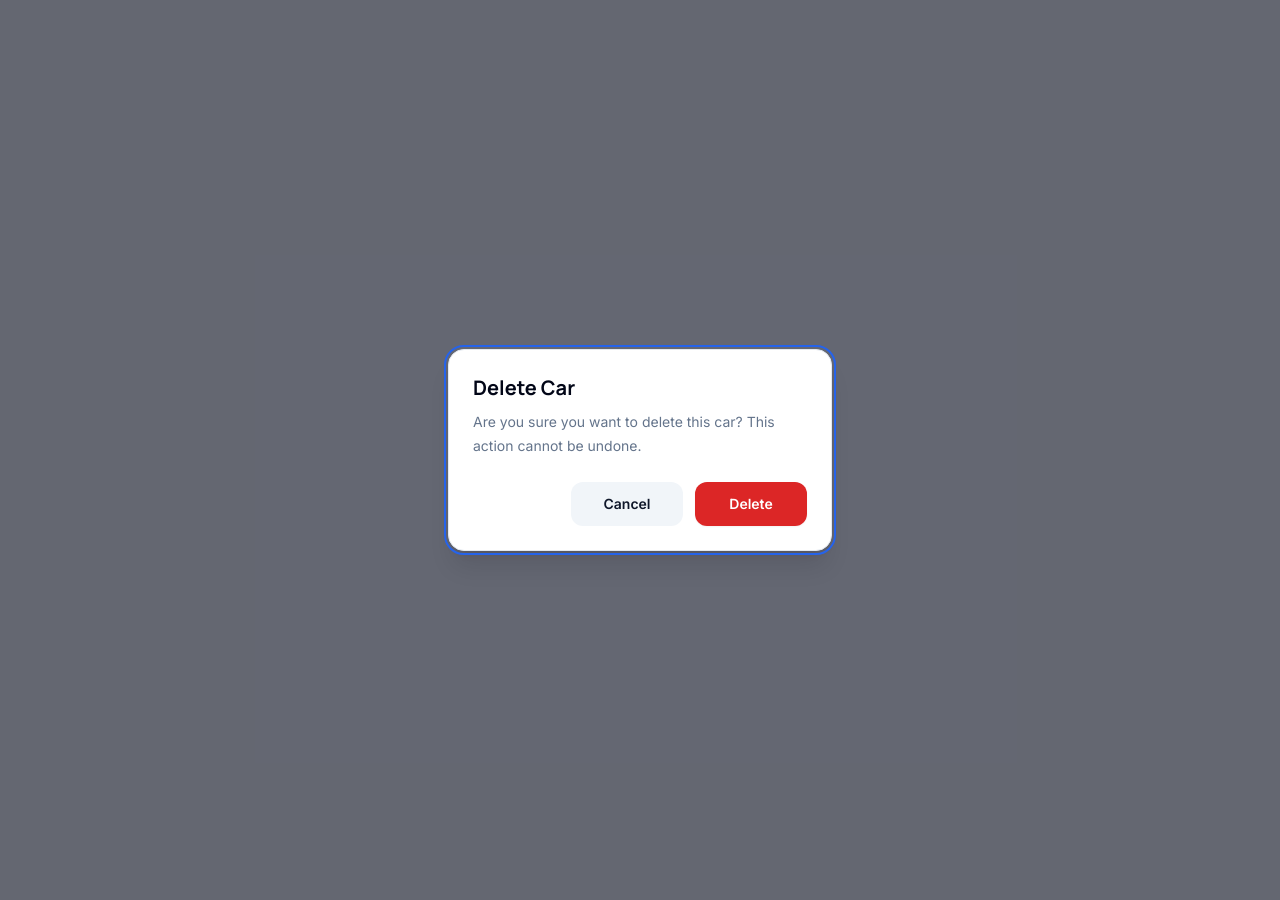
DeleteCarModal › shows an inline error when delete request fails
Click the button "Delete". click: (751, 504)
box: [695,482,807,526]
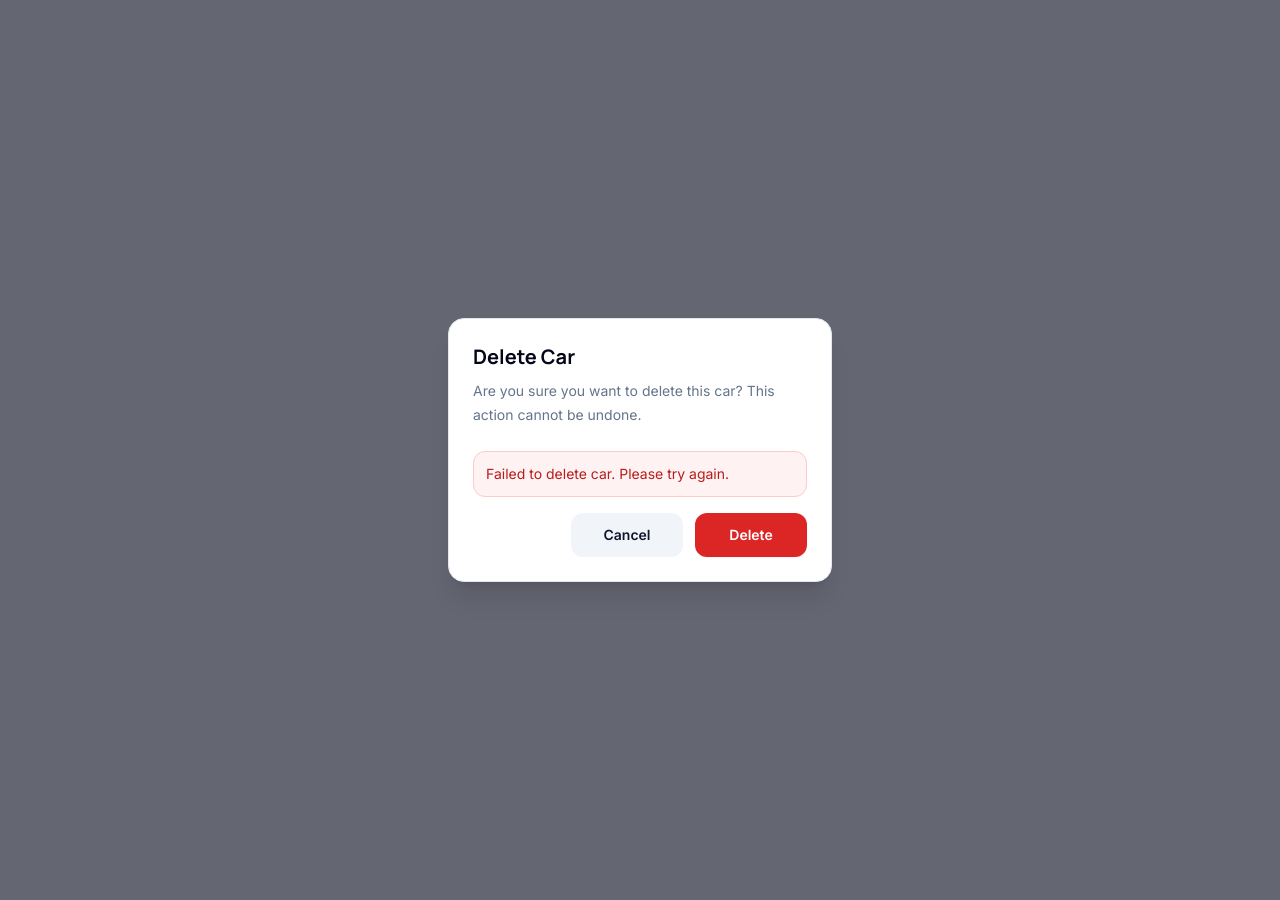
expect the message reads "Failed to delete car. Please try again.": met, box [486,465,729,482]
